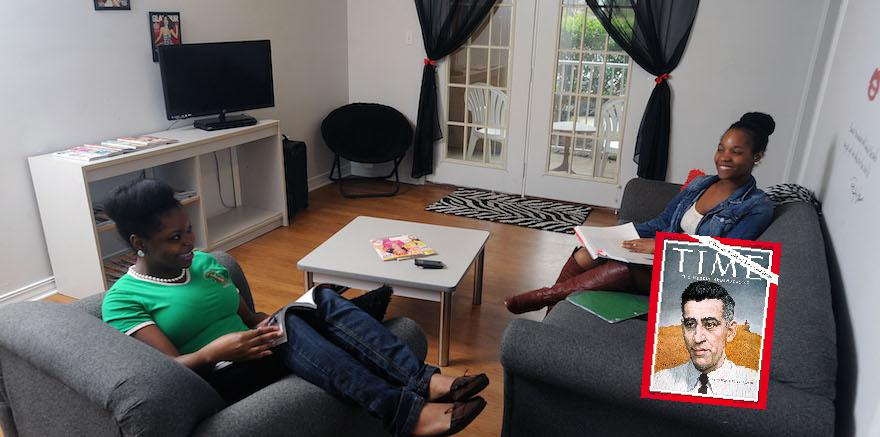times: (637, 231, 783, 410)
